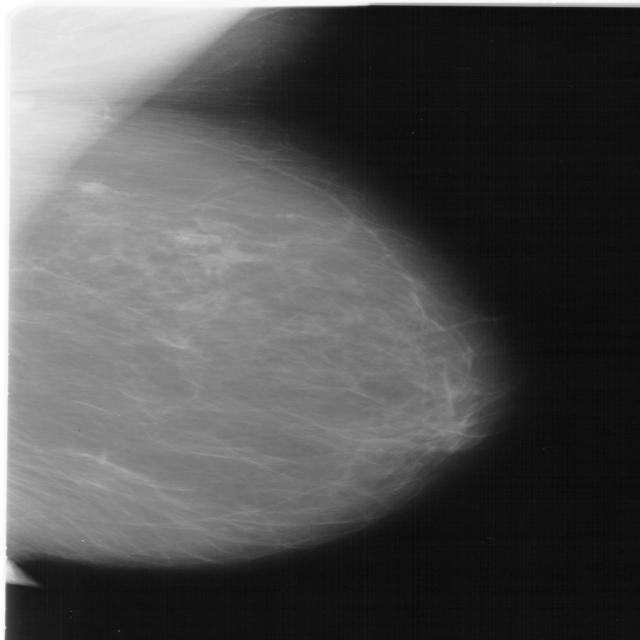normal: (0, 0, 497, 593)
